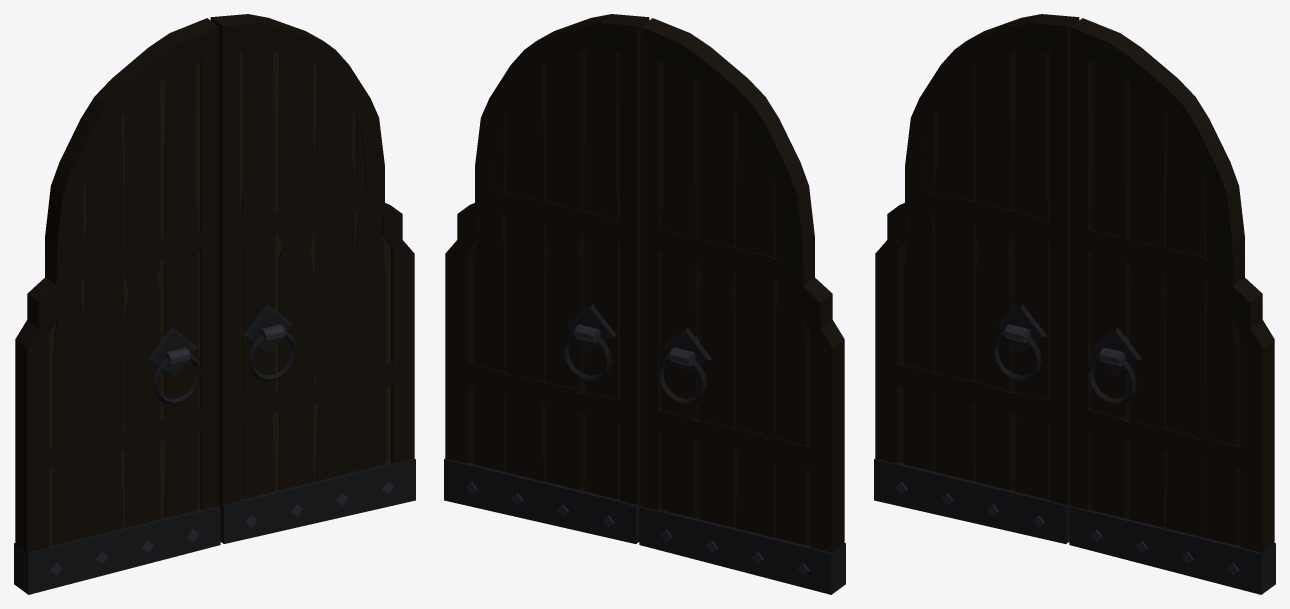
The model's file is Doors_RoundArch.obj.
3 views of the same model, side by side, from view 1: azimuth 30°, elevation 25°; view 2: azimuth 150°, elevation 25°; view 3: azimuth 330°, elevation 25° (orthographic).
Parts seen in each view (by area): view 1: Doors_RoundArch_L_Cylinder.001, Doors_RoundArch_R_Cylinder.001; view 2: Doors_RoundArch_L_Cylinder.001, Doors_RoundArch_R_Cylinder.001; view 3: Doors_RoundArch_R_Cylinder.001, Doors_RoundArch_L_Cylinder.001.
Boxes of the visible parts, x1,y1,x2,y2 form: Doors_RoundArch_L_Cylinder.001: (14,18,220,594); Doors_RoundArch_R_Cylinder.001: (210,14,415,543); Doors_RoundArch_L_Cylinder.001: (639,18,845,594); Doors_RoundArch_R_Cylinder.001: (444,14,649,543); Doors_RoundArch_R_Cylinder.001: (1069,18,1275,594); Doors_RoundArch_L_Cylinder.001: (874,14,1079,543).
Bounding box in the file's own units: 2.31 × 2.97 × 0.2743.
